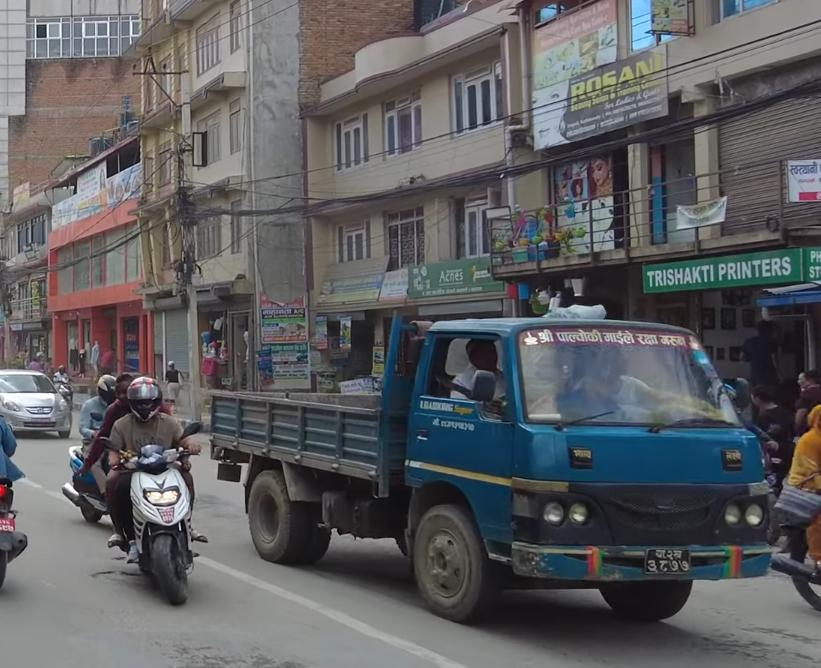car: (0, 363, 75, 445)
mini_truck: (186, 298, 782, 624)
scooter: (105, 389, 201, 609)
